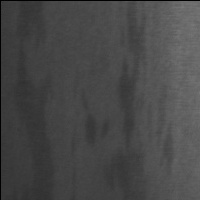inclusion: (11, 12, 57, 199), (106, 19, 153, 197), (155, 97, 177, 181), (76, 90, 102, 149)
